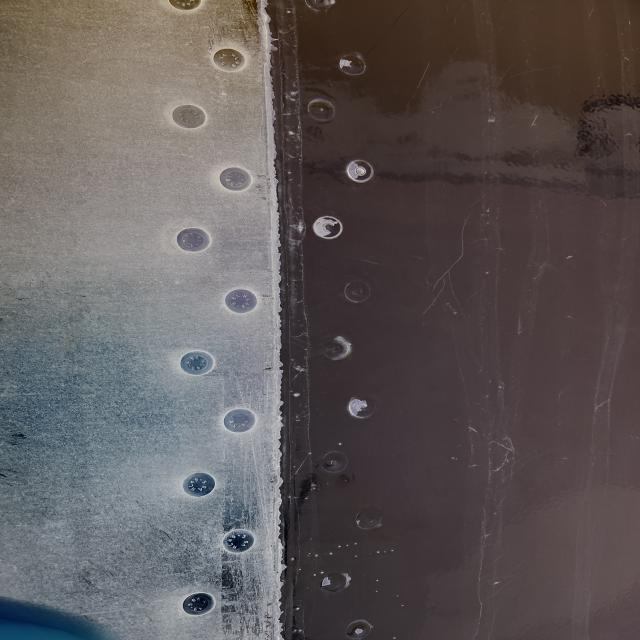crack: (420, 214, 497, 318), (483, 435, 522, 482)
